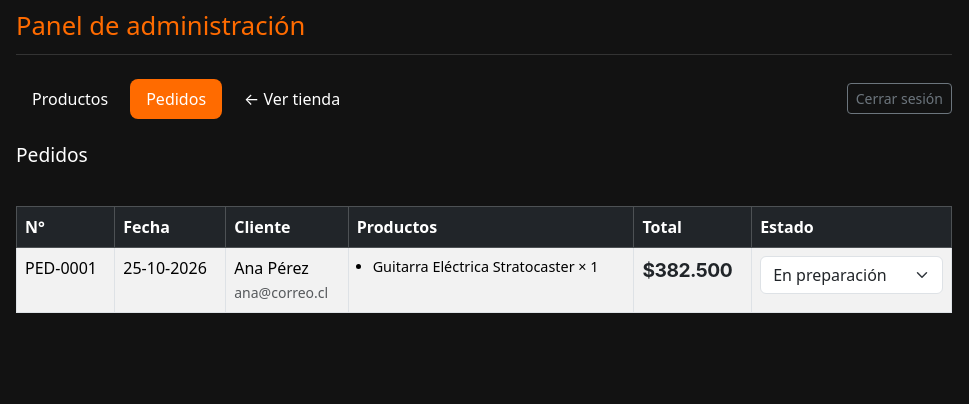
Scenario: PaginaAdminPedidos › lista los pedidos y deja cambiar su estado
Expected: the text "PED-0001" is shown, x1=16 y1=247 x2=115 y2=312
Select "Entregado" in the dropdown named "Estado del pedido PED-0001" at (852, 275), box x1=760 y1=256 x2=943 y2=294
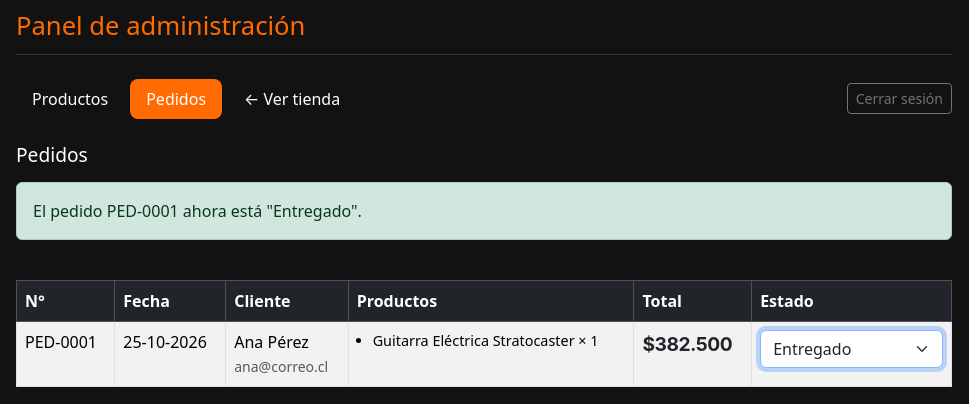
Expected: the text "El pedido PED-0001 ahora está \"Entregado\"." is shown, x1=16 y1=182 x2=952 y2=240
